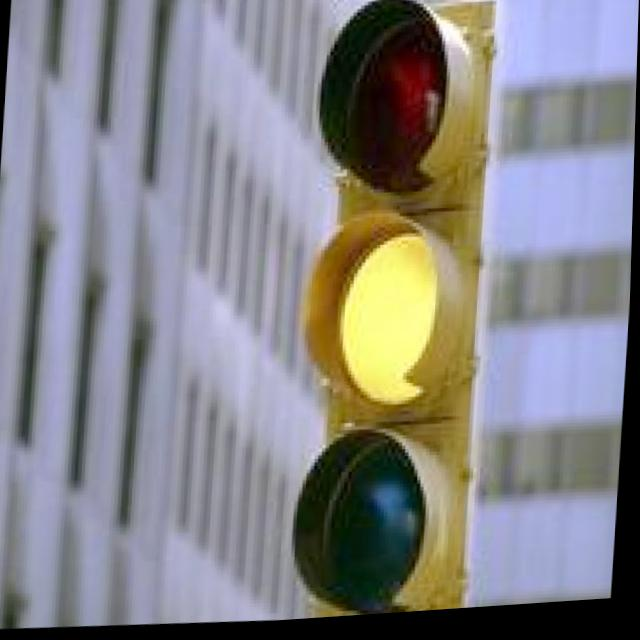yellow_light: (258, 202, 494, 456)
